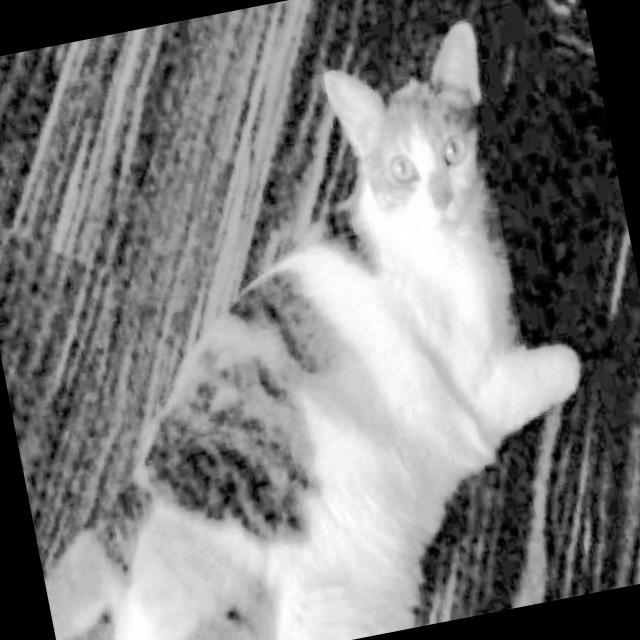Cat: (0, 3, 630, 640)
